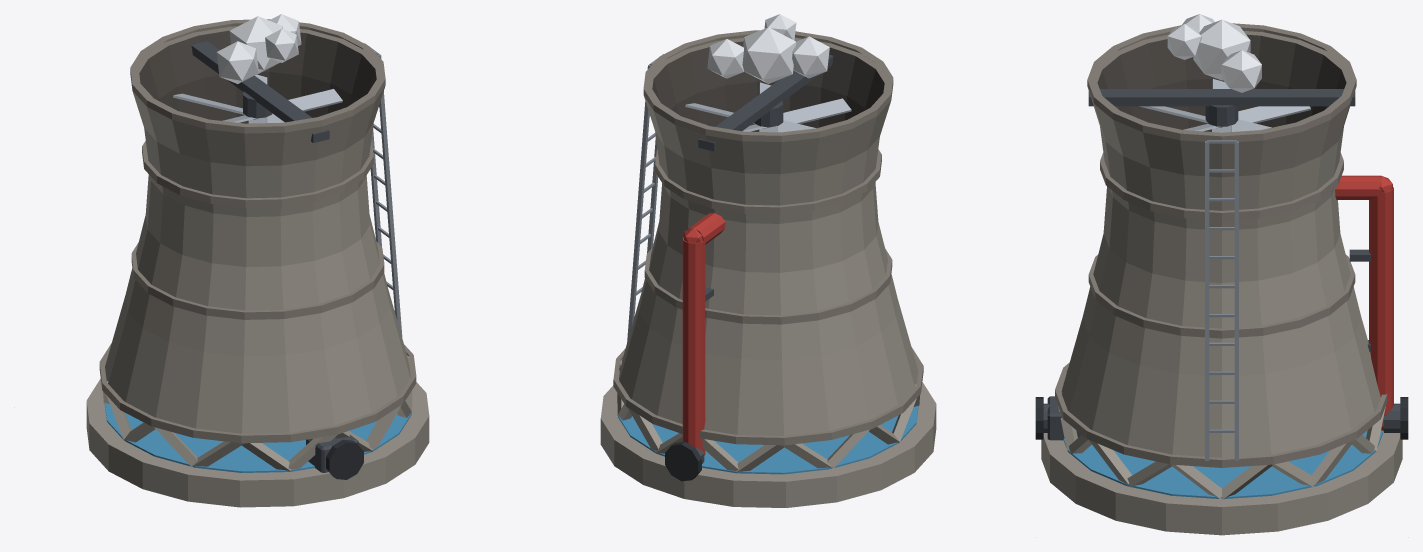
The model's file is tour_refroidissement_t2.glb.
3 views of the same model, side by side, from view 1: azimuth 30°, elevation 25°; view 2: azimuth 150°, elevation 25°; view 3: azimuth 270°, elevation 25° (orthographic). The views are drawn at different scales.
Parts seen in each view (by area): view 1: coque.002, bassin.002, coque_dedans.002, coque_levre.002, bassin_eau.002, pieces_beton.046, cerclage_0.002, pieces_acier_sombre.050, cerclage_1.002, cerclage_2.002, pieces_acier.044, ventilateur_gris_clair.002 (+4 smaller); view 2: coque.002, bassin.002, coque_dedans.002, pieces_rouge.014, coque_levre.002, bassin_eau.002, pieces_beton.046, cerclage_0.002, pieces_acier_sombre.050, cerclage_1.002, cerclage_2.002, jet_vapeur_0_blanc.002 (+5 smaller); view 3: coque.002, bassin.002, coque_dedans.002, pieces_acier_sombre.050, pieces_rouge.014, coque_levre.002, bassin_eau.002, pieces_beton.046, pieces_acier.044, cerclage_0.002, cerclage_1.002, cerclage_2.002 (+5 smaller).
Part boxes in pixels (x1,y1,x2,y2): coque.002: [105, 86, 410, 433]; bassin.002: [86, 379, 429, 507]; coque_dedans.002: [139, 30, 376, 123]; coque_levre.002: [130, 19, 385, 133]; bassin_eau.002: [104, 403, 411, 472]; pieces_beton.046: [103, 355, 412, 471]; cerclage_0.002: [99, 343, 416, 443]; pieces_acier_sombre.050: [191, 41, 358, 472]; cerclage_1.002: [131, 241, 384, 319]; cerclage_2.002: [142, 141, 373, 207]; pieces_acier.044: [364, 43, 402, 337]; ventilateur_gris_clair.002: [173, 74, 342, 123]; coque.002: [619, 96, 918, 435]; bassin.002: [600, 382, 936, 507]; coque_dedans.002: [652, 41, 884, 131]; pieces_rouge.014: [682, 213, 725, 455]; coque_levre.002: [643, 30, 893, 142]; bassin_eau.002: [618, 405, 918, 474]; pieces_beton.046: [617, 359, 920, 472]; cerclage_0.002: [613, 347, 923, 445]; pieces_acier_sombre.050: [696, 54, 833, 463]; cerclage_1.002: [644, 248, 892, 324]; cerclage_2.002: [655, 149, 881, 214]; jet_vapeur_0_blanc.002: [742, 27, 796, 83]; coque.002: [1061, 90, 1380, 457]; bassin.002: [1041, 431, 1402, 535]; coque_dedans.002: [1097, 34, 1346, 131]; pieces_acier_sombre.050: [1043, 89, 1400, 440]; pieces_rouge.014: [1335, 175, 1393, 430]; coque_levre.002: [1087, 23, 1356, 141]; bassin_eau.002: [1063, 430, 1383, 498]; pieces_beton.046: [1058, 389, 1385, 499]; pieces_acier.044: [1205, 140, 1238, 460]; cerclage_0.002: [1055, 362, 1387, 467]; cerclage_1.002: [1088, 254, 1355, 338]; cerclage_2.002: [1100, 153, 1343, 220].
Bounding box in the file's own units: 1.5 × 1.94 × 1.5.
